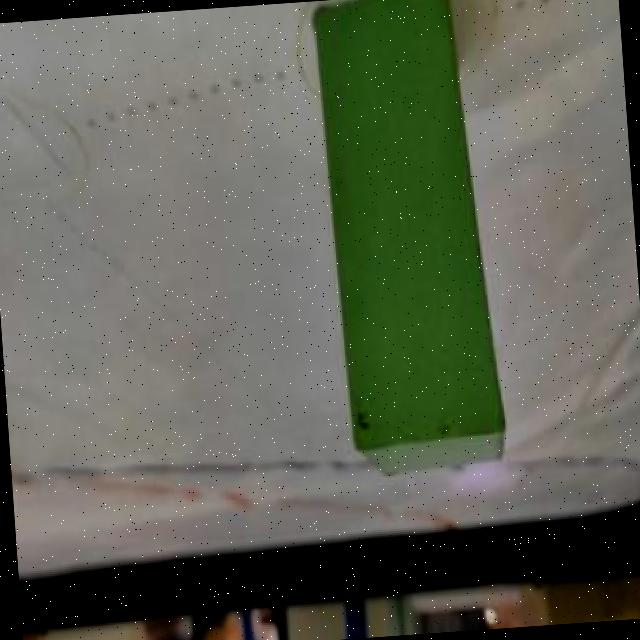greenbox: (310, 0, 513, 485)
